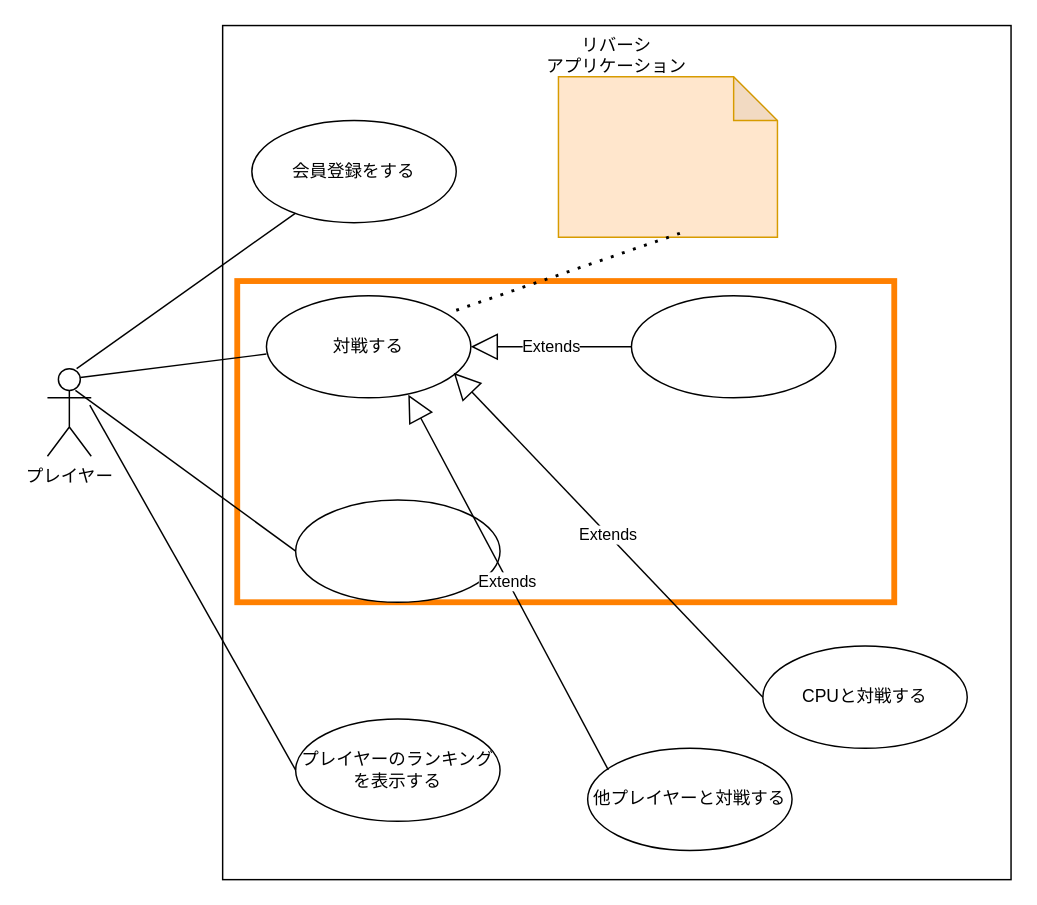
The diagram is 1037 pixels wide and 905 high, and some of its shapes have lost their labels. The centre of each missing label's shape, as x and y in pixels:
・対戦を開始する ・石を打つ ・盤面を見る ・勝敗を確認する: point 667,156
一人で白黒交互に打つ: point 733,346
過去の対戦結果をみる: point 397,550
